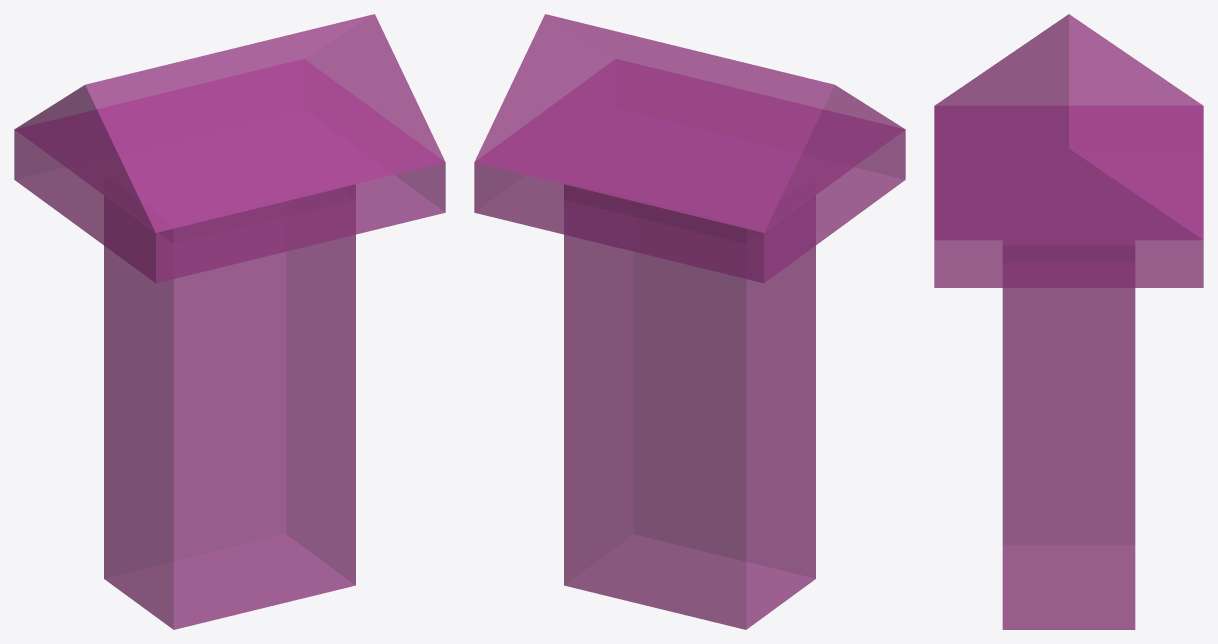
Rendered from SM_Bld_Fence_Dobei_Pillar_01_Collision_01.fbx.
The picture shows the model from 3 angles, left to right: view 1: azimuth 30°, elevation 25°; view 2: azimuth 150°, elevation 25°; view 3: azimuth 270°, elevation 25°; orthographic projection. The views are drawn at different scales.
Parts seen in each view (by area): view 1: SM_Bld_Fence_Dobei_Pillar_01_Collision_01; view 2: SM_Bld_Fence_Dobei_Pillar_01_Collision_01; view 3: SM_Bld_Fence_Dobei_Pillar_01_Collision_01.
Boxes of the visible parts, box(x1,y1,x2,y2) form: SM_Bld_Fence_Dobei_Pillar_01_Collision_01: box(14, 14, 445, 629); SM_Bld_Fence_Dobei_Pillar_01_Collision_01: box(474, 14, 905, 629); SM_Bld_Fence_Dobei_Pillar_01_Collision_01: box(934, 14, 1203, 629).
Bounding box in the file's own units: 234 × 411 × 198.
